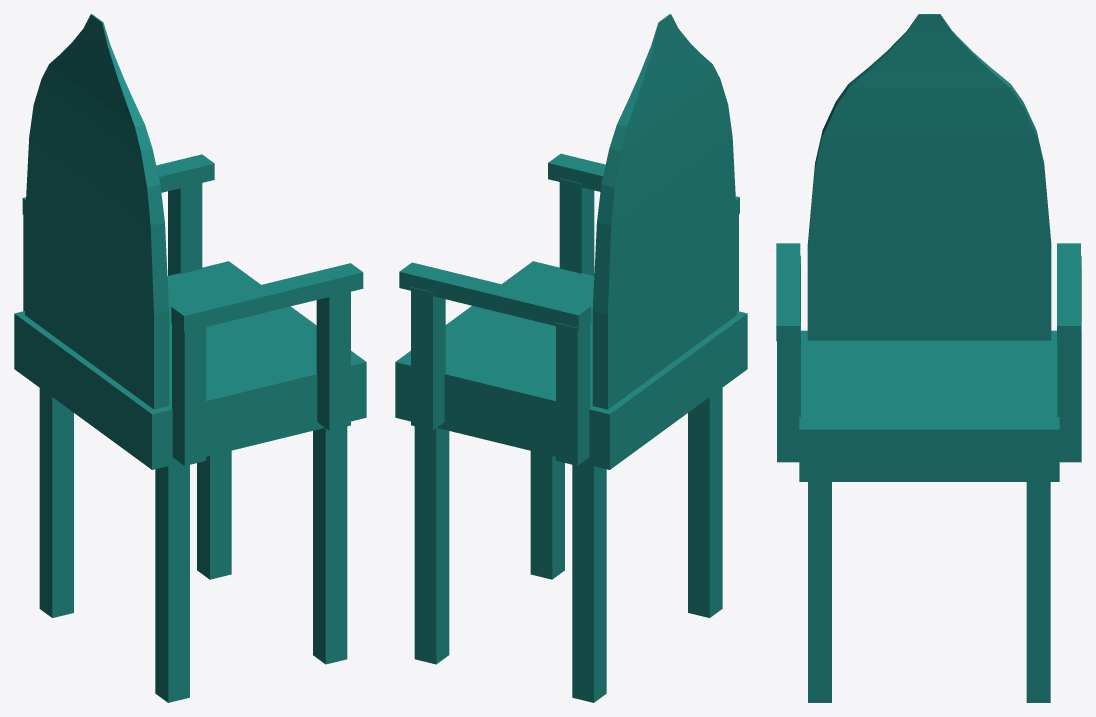
The model's file is uustuolisotkasta.fbx.
3 renders of one model, left to right at view 1: azimuth 30°, elevation 25°; view 2: azimuth 150°, elevation 25°; view 3: azimuth 270°, elevation 25°, orthographic. The views are drawn at different scales.
Parts seen in each view (by area): view 1: Cube.001; view 2: Cube.001; view 3: Cube.001.
Boxes of the visible parts, x1=… form: Cube.001: x1=14, y1=14, x2=366, y2=702; Cube.001: x1=395, y1=14, x2=747, y2=702; Cube.001: x1=776, y1=14, x2=1081, y2=702.
Bounding box in the file's own units: 39.34 × 112 × 51.36.
